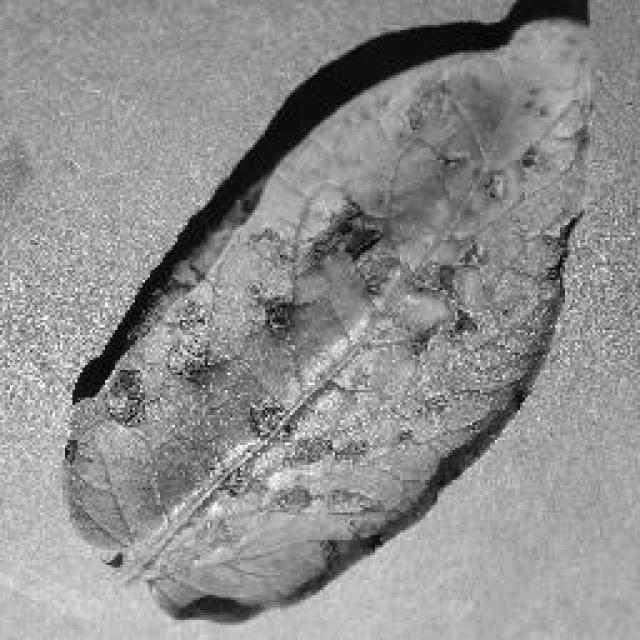Potato: (59, 0, 602, 622)
